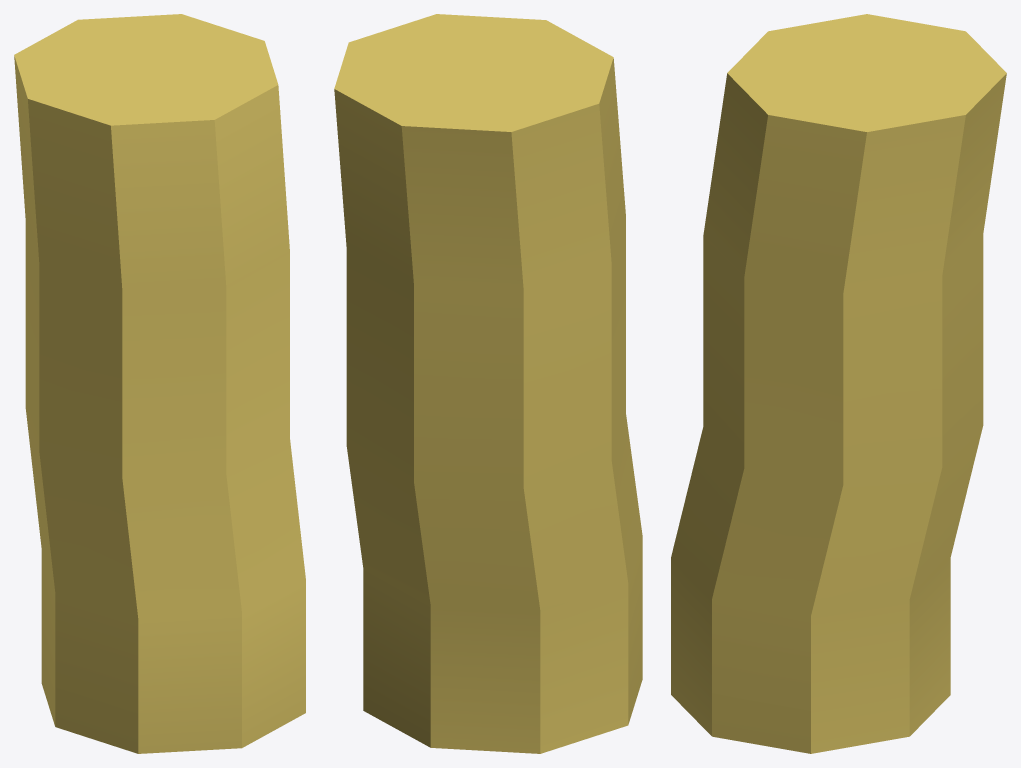
The model's file is Gold3.fbx.
3 views of the same model, side by side, from view 1: azimuth 30°, elevation 25°; view 2: azimuth 150°, elevation 25°; view 3: azimuth 270°, elevation 25° (orthographic). The views are drawn at different scales.
Visible parts, largest first — view 1: Gold1; view 2: Gold1; view 3: Gold1.
Part boxes in pixels (left/top/right/bottom): Gold1: left=14, top=14, right=305, bottom=753; Gold1: left=334, top=14, right=642, bottom=753; Gold1: left=671, top=14, right=1006, bottom=753.
Bounding box in the file's own units: 1.75 × 4.29 × 2.1.
